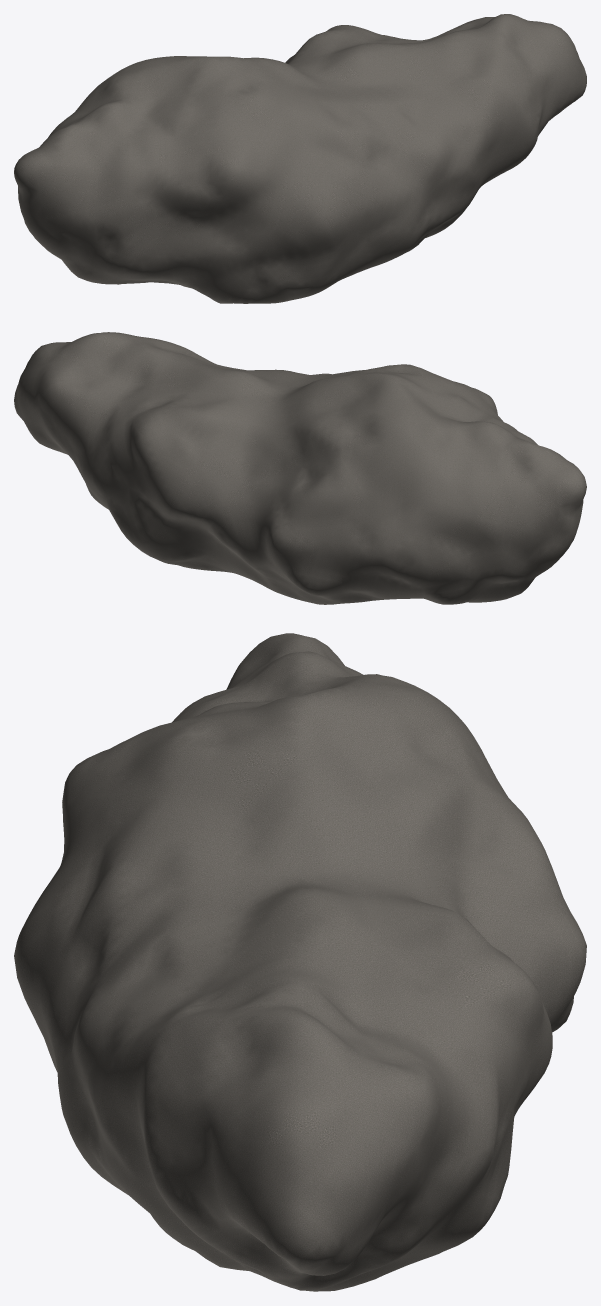
The model's file is geographos.glb.
3 views of the same model, one above another, from view 1: azimuth 30°, elevation 25°; view 2: azimuth 150°, elevation 25°; view 3: azimuth 270°, elevation 25° (orthographic). The views are drawn at different scales.
Parts seen in each view (by area): view 1: Asteroid 1620 Geographos; view 2: Asteroid 1620 Geographos; view 3: Asteroid 1620 Geographos.
Part boxes in pixels (x1,y1,x2,y2): Asteroid 1620 Geographos: (14,14,586,303); Asteroid 1620 Geographos: (14,332,586,604); Asteroid 1620 Geographos: (14,633,586,1291).
Bounding box in the file's own units: 5000 × 1956 × 2357.
1 material, 1 textured.
